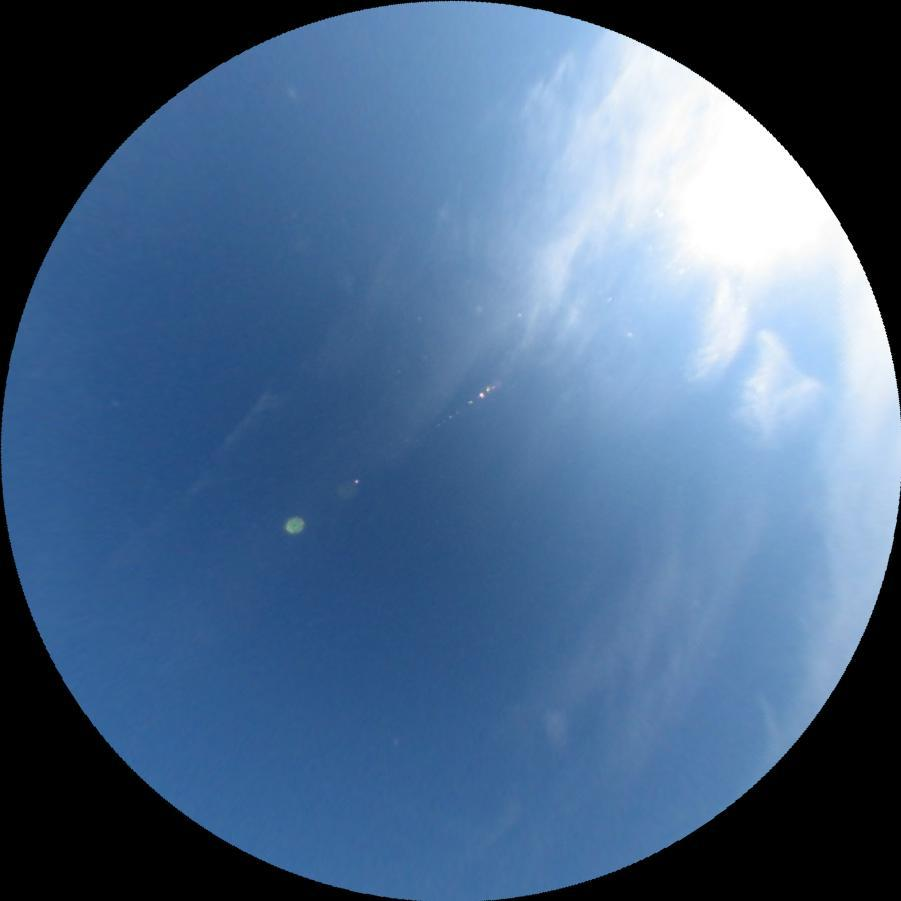contrail veryold: (307, 43, 723, 532), (656, 280, 832, 458)
